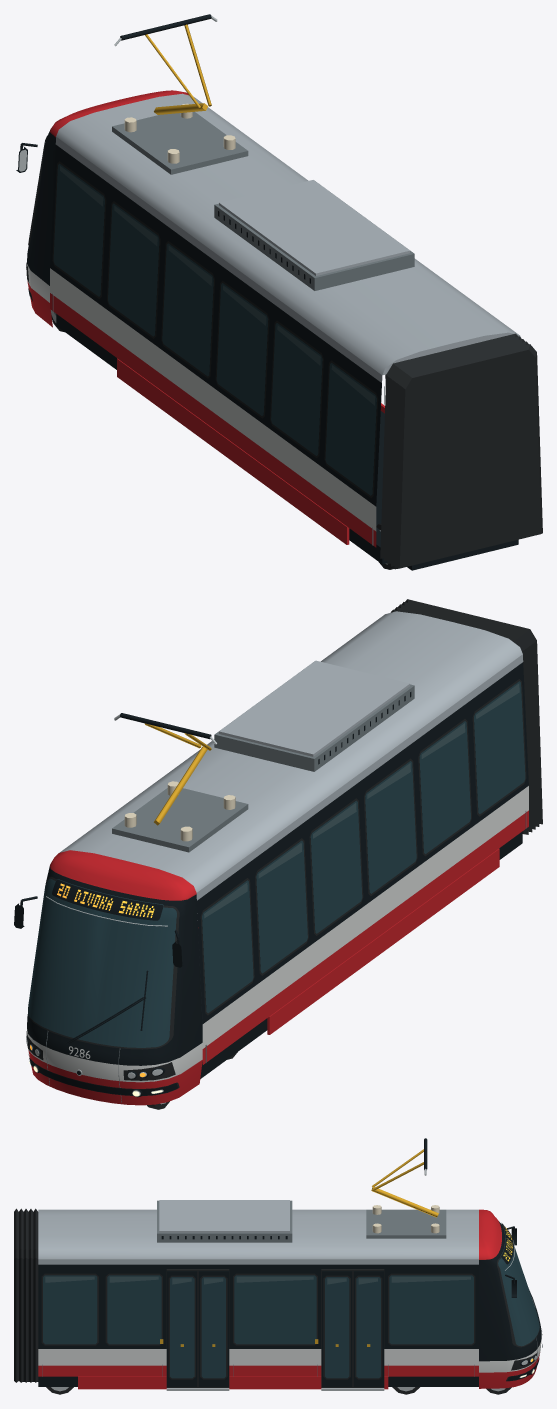
The model's file is 15t-a-viewer.glb.
3 renders of one model, top to bottom at view 1: azimuth 30°, elevation 25°; view 2: azimuth 150°, elevation 25°; view 3: azimuth 270°, elevation 25°, orthographic. The views are drawn at different scales.
Parts seen in each view (by area): view 1: 15t-a; view 2: 15t-a; view 3: 15t-a, 15t-a-door-1-1.900-0, 15t-a-door-1-1.900-1, 15t-a-door-1--1.300-0, 15t-a-door-1--1.300-1.
Part boxes in pixels (<box>): 15t-a: <box>16,14,542,570</box>; 15t-a: <box>14,599,542,1109</box>; 15t-a: <box>14,1138,542,1394</box>; 15t-a-door-1-1.900-0: <box>198,1271,228,1386</box>; 15t-a-door-1-1.900-1: <box>167,1271,197,1386</box>; 15t-a-door-1--1.300-0: <box>353,1271,383,1386</box>; 15t-a-door-1--1.300-1: <box>322,1271,352,1386</box>.
Bounding box in the file's own units: 2.71 × 5.11 × 10.92.
